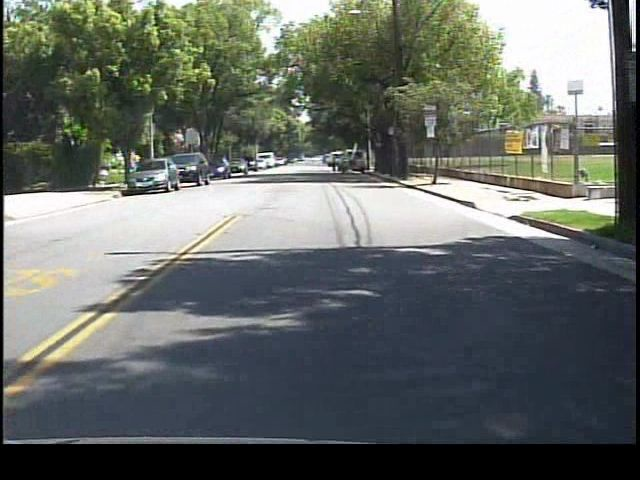person: (326, 149, 341, 174)
